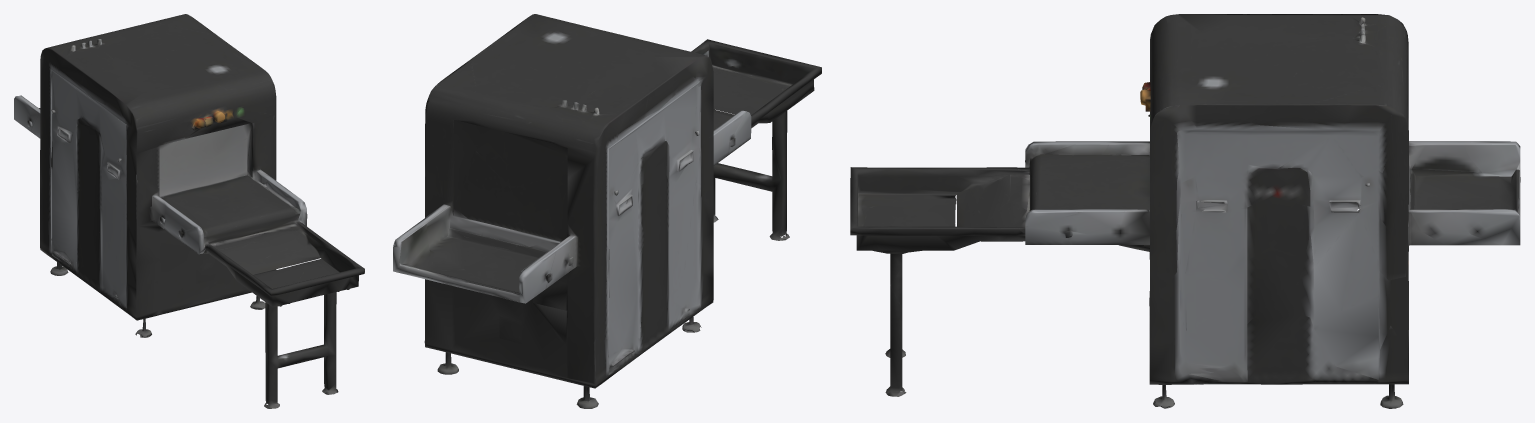
The model's file is xray.glb.
3 views of the same model, side by side, from view 1: azimuth 30°, elevation 25°; view 2: azimuth 150°, elevation 25°; view 3: azimuth 270°, elevation 25° (orthographic). The views are drawn at different scales.
Parts seen in each view (by area): view 1: tripo_node_baab9e08; view 2: tripo_node_baab9e08; view 3: tripo_node_baab9e08.
Part boxes in pixels (box(x1,y1,x2,y2)): tripo_node_baab9e08: box(14, 14, 364, 408); tripo_node_baab9e08: box(393, 14, 821, 408); tripo_node_baab9e08: box(850, 14, 1520, 408).
Size of the model in its own units: 33.68 by 52.93 by 99.99.
Materials: 1 (1 with a texture image).
